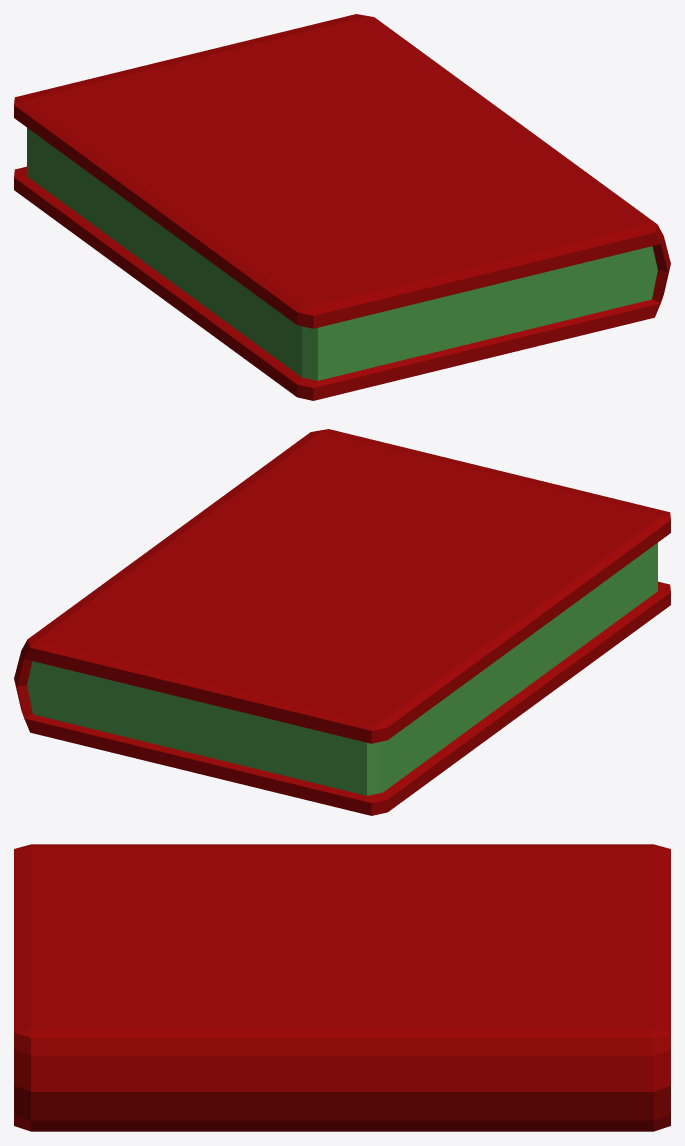
File: Book_1.fbx
3 renders of one model, top to bottom at view 1: azimuth 30°, elevation 25°; view 2: azimuth 150°, elevation 25°; view 3: azimuth 270°, elevation 25°, orthographic. The views are drawn at different scales.
Visible parts, largest first — view 1: Book; view 2: Book; view 3: Book.
Boxes of the visible parts, x1=… form: Book: x1=14, y1=14, x2=670, y2=400; Book: x1=14, y1=429, x2=670, y2=815; Book: x1=14, y1=844, x2=670, y2=1131.
Bounding box in the file's own units: 189 × 43.31 × 261.
